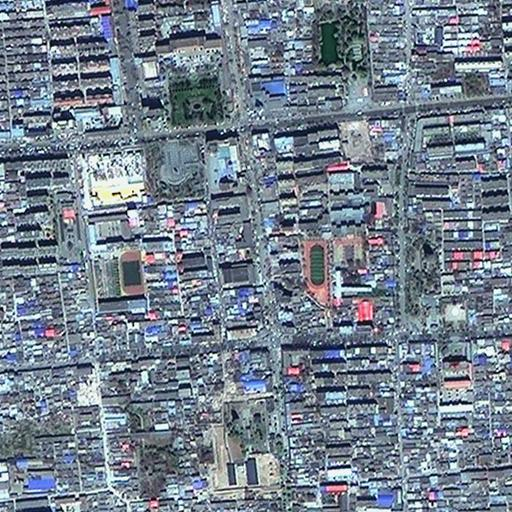school: (85, 214, 146, 314), (302, 233, 365, 302)
